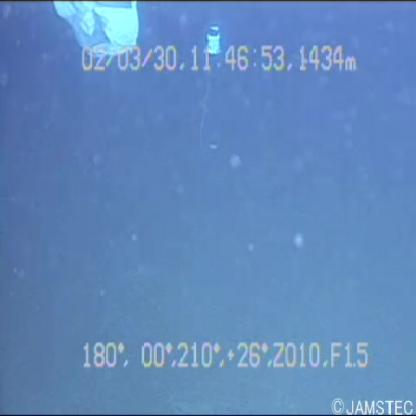Rác: (47, 1, 149, 60)
